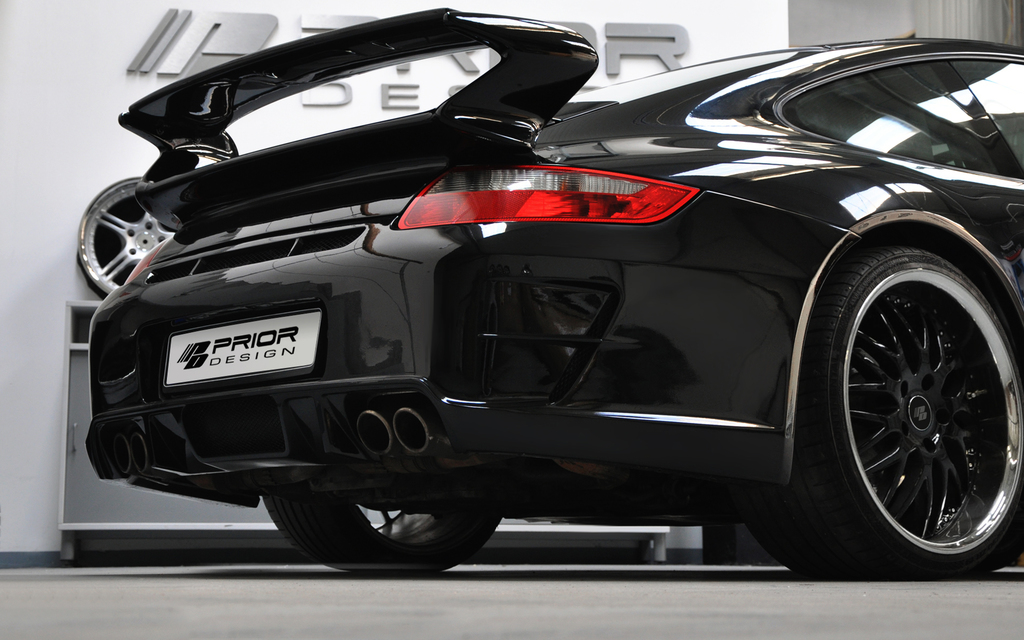Car: (80, 5, 1023, 582)
